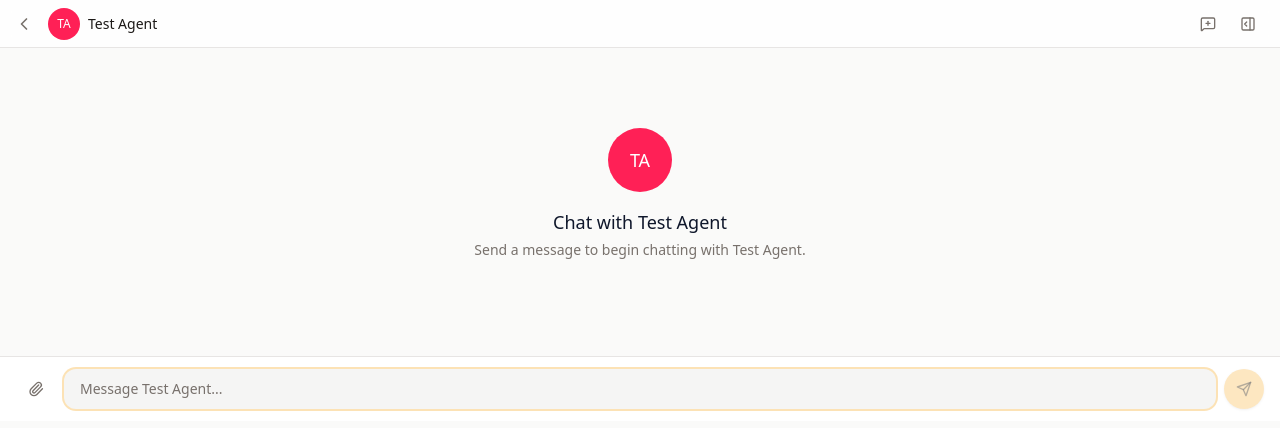
Test: WorkforceThread – Attachment Features › Error handling › retries the failed turn
Expected: the text "Test Agent" is shown, [88, 14, 157, 34]
Type "Try me" into the text box with placeholder "Message Test Agent...". click: (640, 389)
box: [64, 369, 1216, 409]
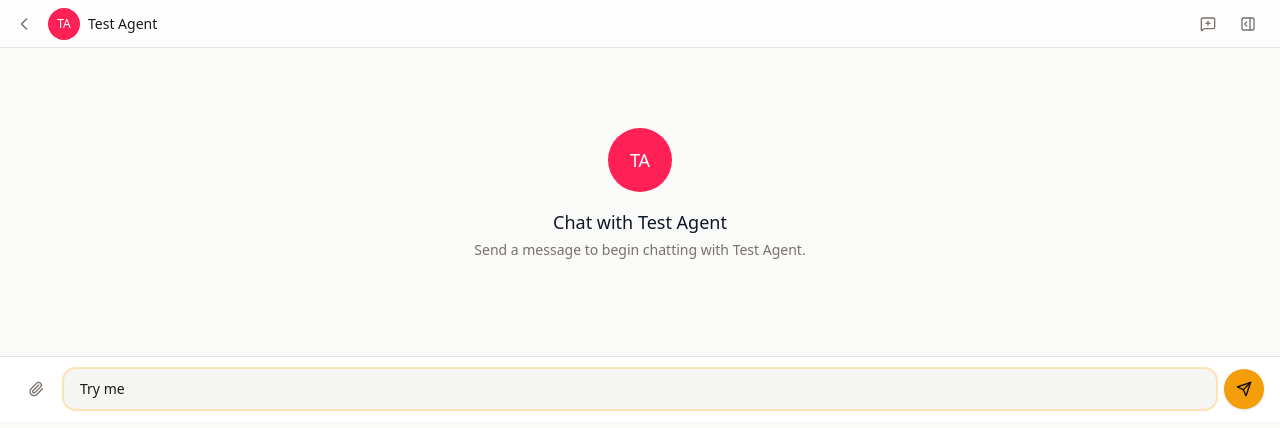
Click the button named "Send". click: (1244, 389)
box: [1224, 369, 1264, 409]
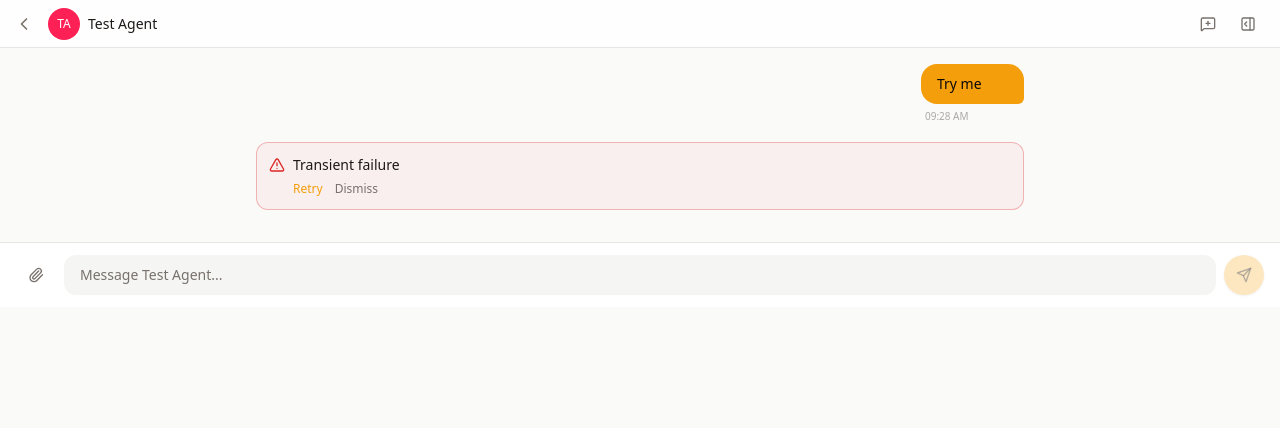
Click the button with test id "thread-retry". click: (308, 189)
box: [293, 181, 323, 197]
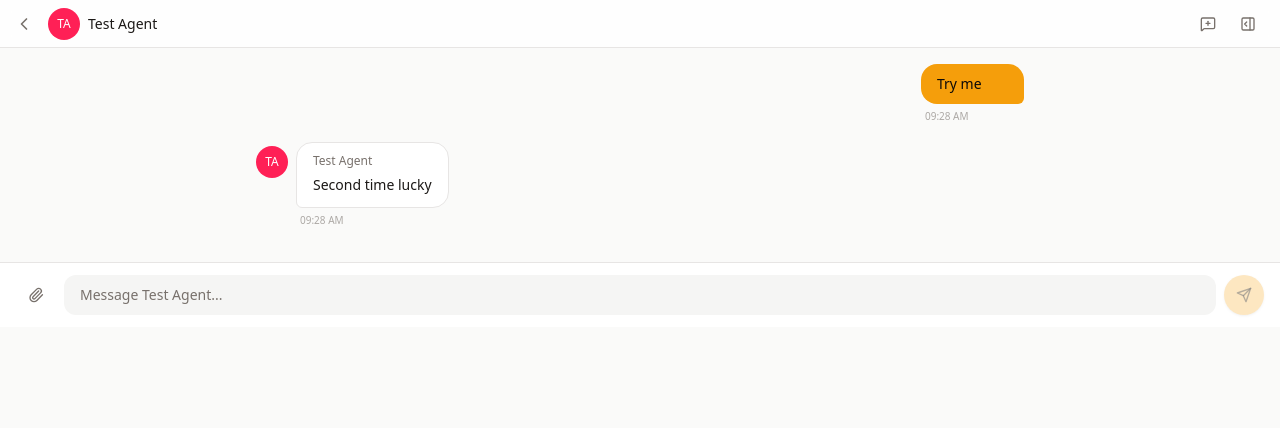
Expected: the text "Try me" is shown once, [937, 74, 982, 93]
Expected: the text "Second time lucky" is shown, [313, 173, 432, 197]
Expected: the message with test id "thread-send-error" is gone
